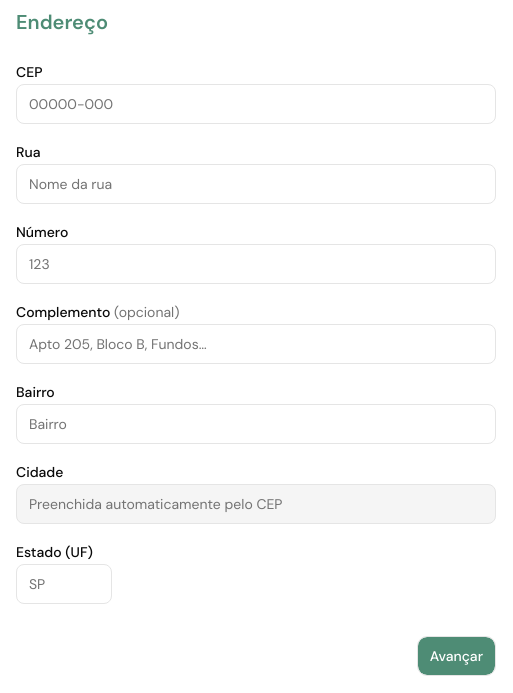
Scenario: ContratarPageClient — passo 0 dry-run validation › should advance to step 1 after validateClientUseCase resolves successfully
(page scrolled)
Click the button "Avançar" at (456, 656), box x1=417 y1=636 x2=496 y2=676
(page scrolled)
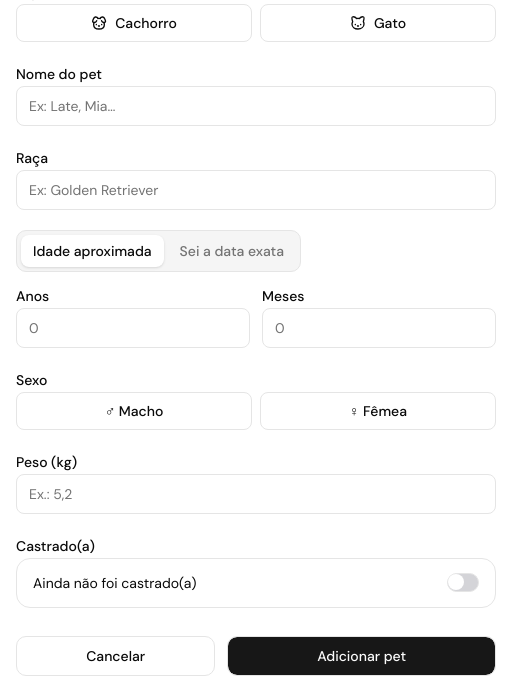
expect the button "Avançar" is gone: met
